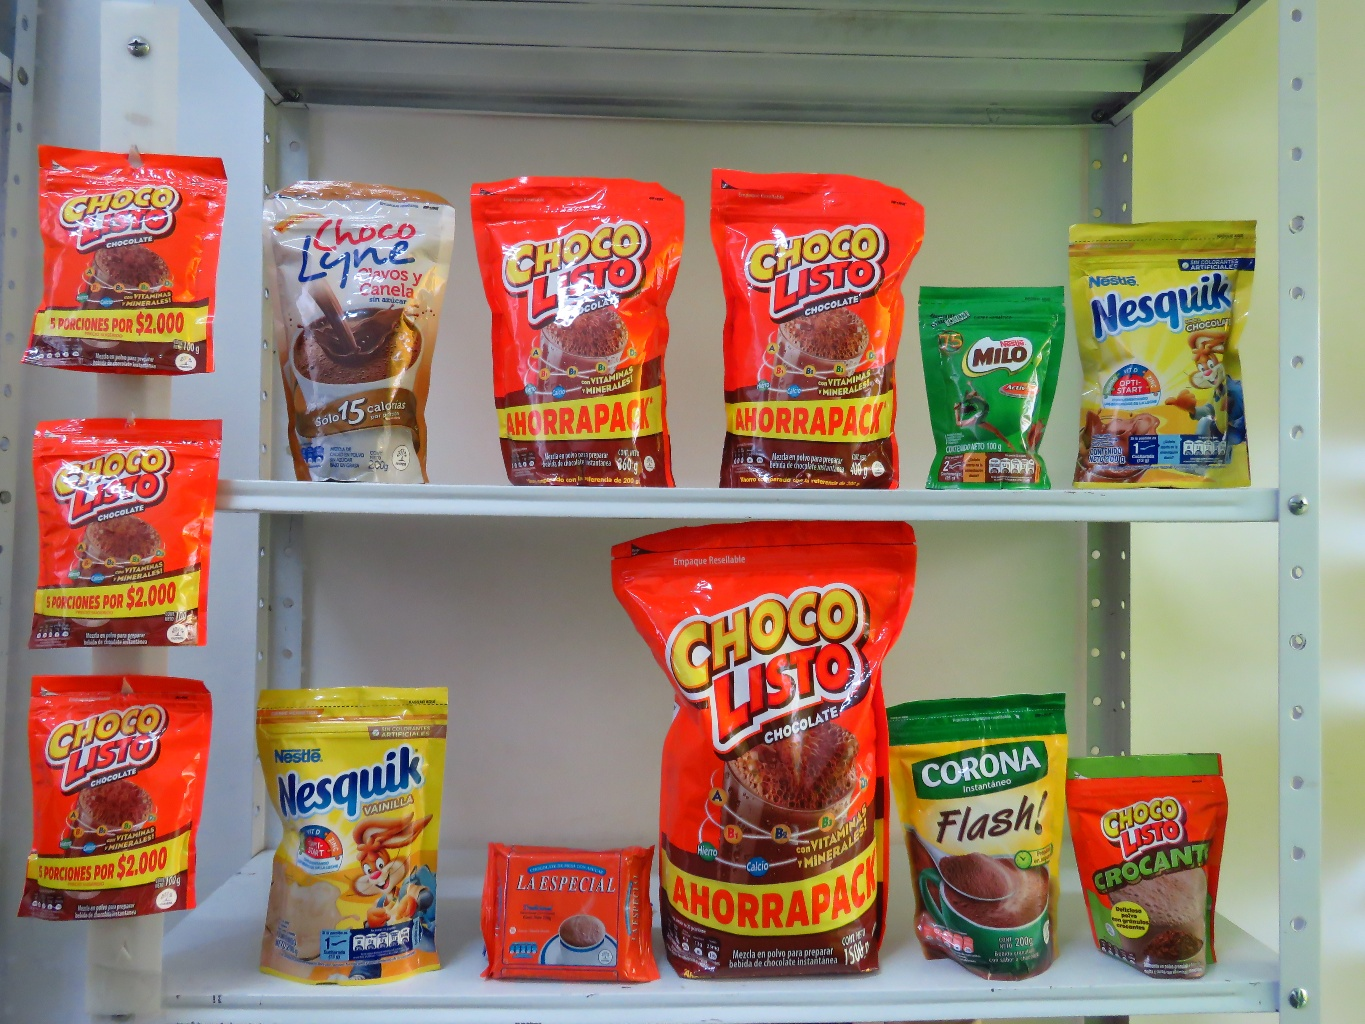COL0170102DYP10000: (1061, 739, 1241, 972)
COL0170103DYP1,500: (617, 514, 928, 994)
COL0170103DYP10000: (19, 672, 208, 925)
COL0170103DYP36000: (468, 165, 697, 475)
COL0170103DYP40000: (701, 152, 928, 488)
COL0170203DYP10000: (933, 281, 1073, 487)
COL0170303DYP20000: (1073, 217, 1267, 490)
COL0170306DYP20000: (239, 674, 447, 977)
